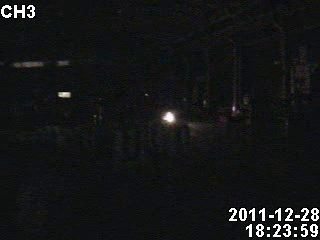fire: (157, 108, 179, 126)
